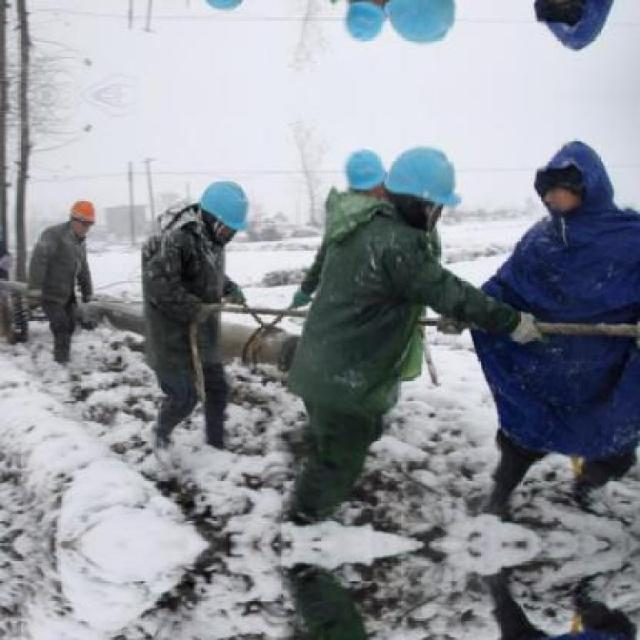helmet: (387, 138, 462, 232), (194, 170, 255, 252), (386, 0, 463, 51), (342, 143, 388, 199), (342, 0, 389, 46), (67, 195, 99, 236), (194, 0, 257, 18)
